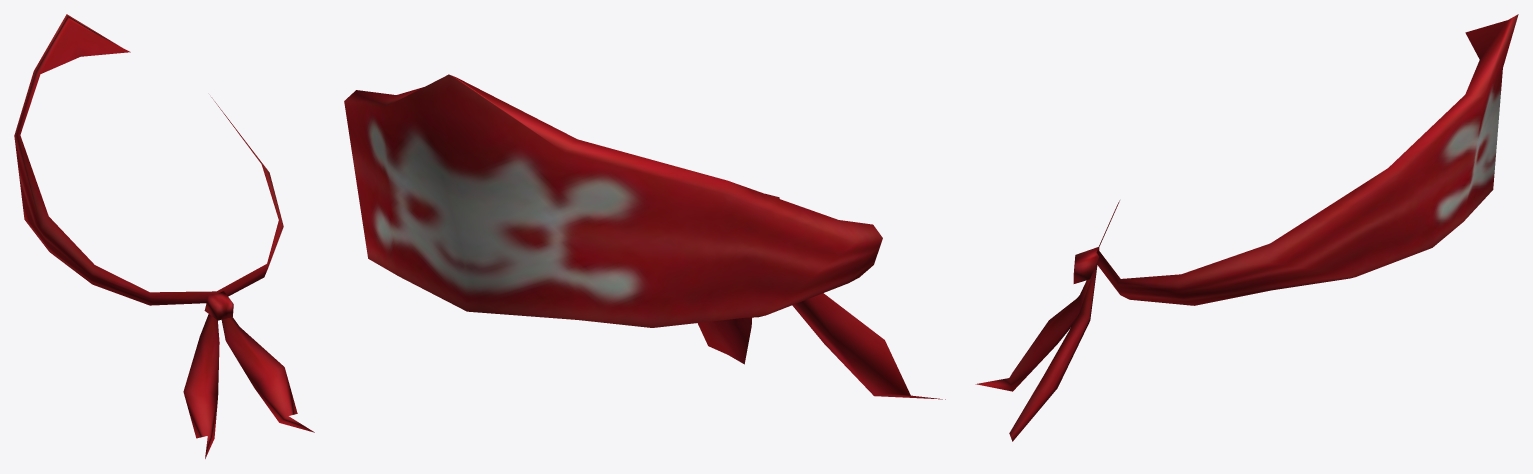
The model's file is pirateBandana.glb.
The picture shows the model from 3 angles, left to right: view 1: azimuth 30°, elevation 25°; view 2: azimuth 150°, elevation 25°; view 3: azimuth 270°, elevation 25°; orthographic projection. The views are drawn at different scales.
Visible parts, largest first — view 1: pirateBandana; view 2: pirateBandana; view 3: pirateBandana.
Boxes of the visible parts, x1,y1,x2,y2 form: pirateBandana: (14, 14, 314, 458); pirateBandana: (344, 74, 945, 399); pirateBandana: (975, 14, 1518, 441).
Bounding box in the file's own units: 0.2358 × 0.287 × 0.3464.
1 material, 1 textured.
